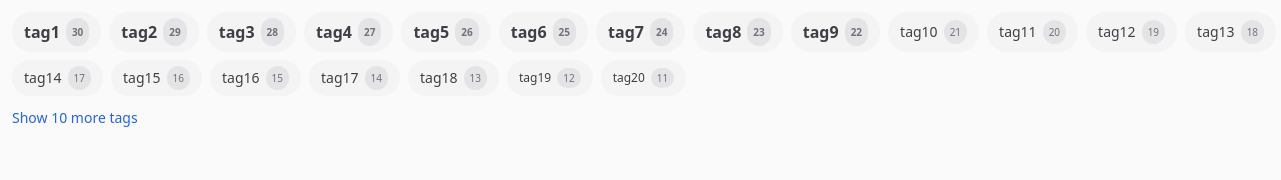
Scenario: TagCloud › Pagination › shows all tags when 'Show more' is clicked
Click the button "Show 10 more tags": coordinates (75, 118) [12,108,138,128]
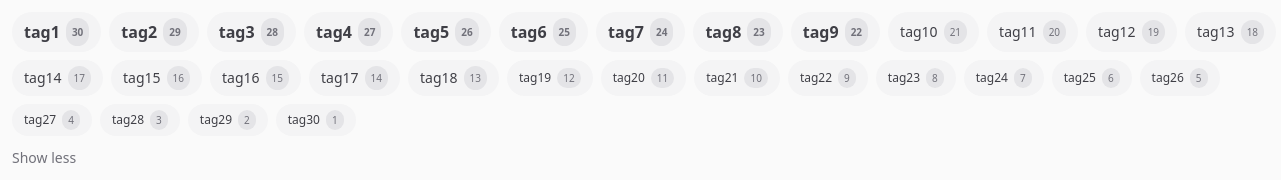
Expected: the text "tag21" is shown, [706,70,738,86]
Expected: the text "tag30" is shown, [288,112,320,128]
